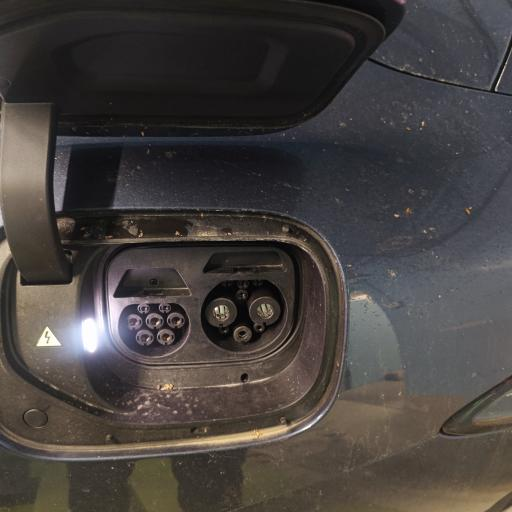AC_charging_hole: (116, 303, 192, 361)
DC_charging_port: (198, 277, 292, 356)
DC_hole: (247, 294, 282, 328), (205, 297, 239, 331)
PE: (232, 324, 254, 346)
